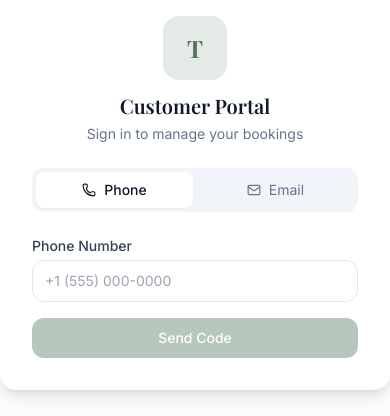
Test case: PortalLoginPage › switches to email tab
Click the button with test id "tab-email" at [276, 190], box x1=197 y1=172 x2=354 y2=208
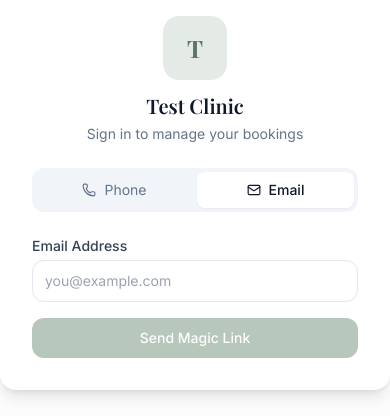
Result: the element with test id "email-tab" is shown at x1=32 y1=236 x2=358 y2=358
Result: the field with test id "email-input" is shown at x1=32 y1=260 x2=358 y2=302
Result: the button with test id "send-magic-link-btn" is shown at x1=32 y1=318 x2=358 y2=358
